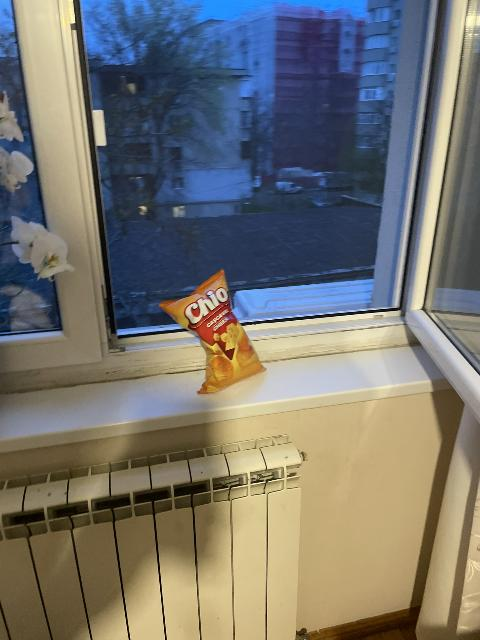Chio Cascaval 125g: (159, 273, 267, 394)
